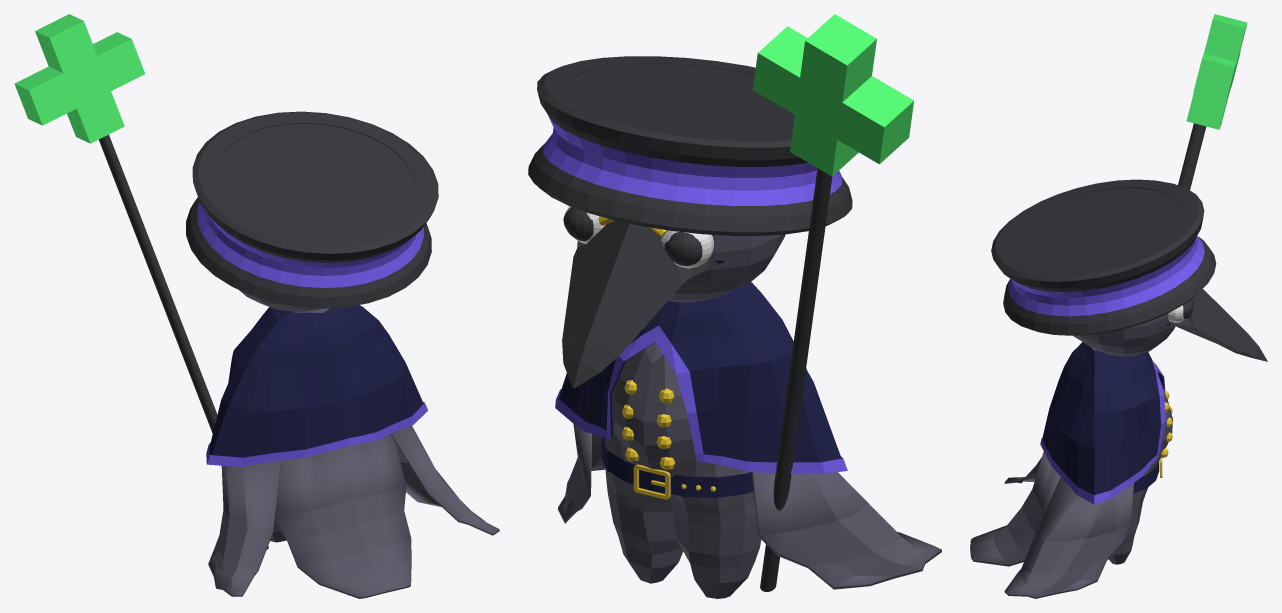
File: Healer_V2.fbx
3 views of the same model, side by side, from view 1: azimuth 30°, elevation 25°; view 2: azimuth 150°, elevation 25°; view 3: azimuth 270°, elevation 25° (orthographic). The views are drawn at different scales.
Parts seen in each view (by area): view 1: Hut.001, mantel.002, mantel.003, Plus, Hut, Satb, mantel.001; view 2: Hut.001, mantel.003, Body, Plus, mantel.002, Cube, Hut, Satb, mantel.001, Sphere.001, Cylinder.001, Sphere.004 (+3 smaller); view 3: Hut.001, mantel.003, mantel.002, Hut, Plus, Cube, Sphere.001, mantel.001, Body, Satb.
Boxes of the visible parts, x1,y1,x2,y2 form: Hut.001: [186, 111, 438, 308]; mantel.002: [208, 425, 499, 598]; mantel.003: [209, 305, 423, 457]; Plus: [14, 14, 144, 143]; Hut: [197, 202, 423, 287]; Satb: [99, 134, 268, 549]; mantel.001: [206, 402, 427, 466]; Hut.001: [528, 56, 852, 235]; mantel.003: [558, 282, 841, 462]; Body: [604, 343, 761, 598]; Plus: [752, 14, 913, 176]; mantel.002: [558, 424, 941, 589]; Cube: [562, 220, 729, 388]; Hut: [543, 114, 842, 205]; Satb: [760, 168, 832, 591]; mantel.001: [555, 325, 847, 473]; Sphere.001: [648, 227, 785, 302]; Cylinder.001: [601, 437, 753, 497]; Sphere.004: [664, 232, 702, 265]; Hut.001: [991, 179, 1216, 335]; mantel.003: [1042, 342, 1163, 495]; mantel.002: [970, 451, 1133, 598]; Hut: [1008, 236, 1204, 316]; Plus: [1186, 14, 1247, 129]; Cube: [1159, 289, 1267, 361]; Sphere.001: [1073, 313, 1175, 356]; mantel.001: [1040, 361, 1165, 504]; Body: [1090, 347, 1172, 564]; Satb: [1178, 123, 1206, 190].
Size of the model in its own units: 6.94 by 9.49 by 5.59.
